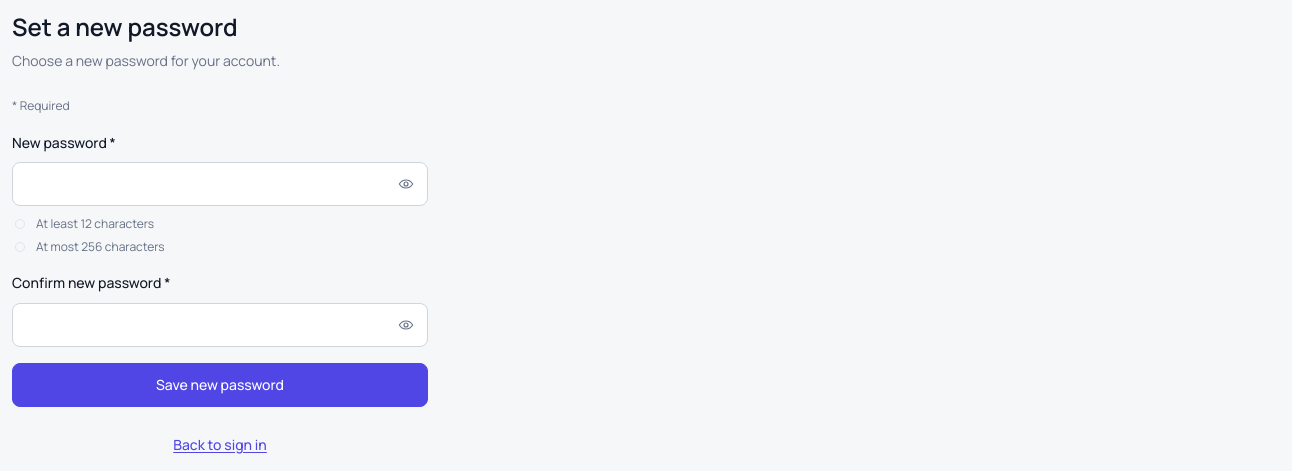
ResetPasswordForm › tells the user their other sessions are gone once the reset lands
The width and height of the screenshot is (1292, 471).
In the password field labelled "New password *": [220, 184] box [12,162,428,206], type "a-perfectly-fine-passphrase"
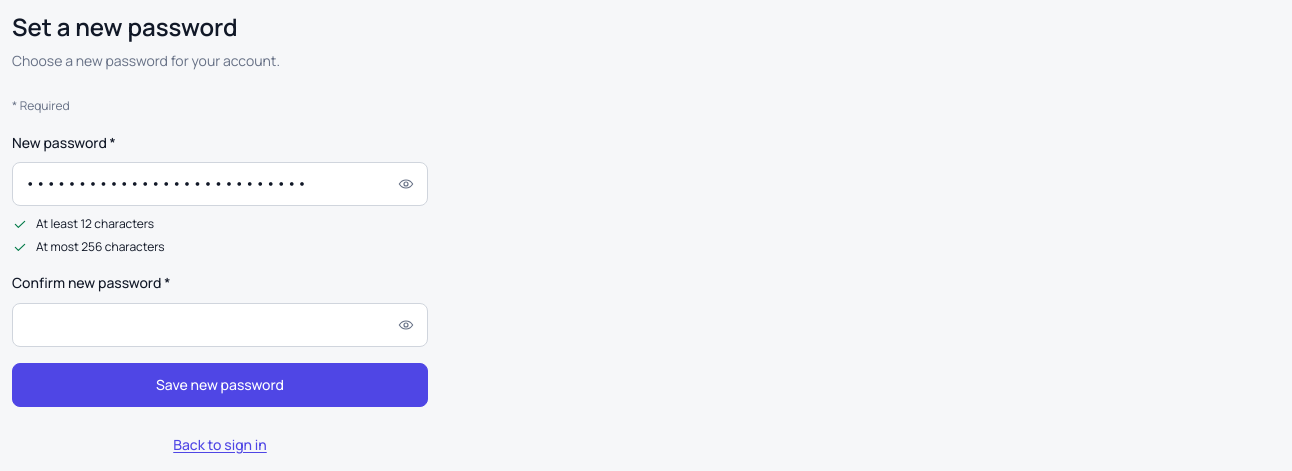
In the password field labelled "Confirm new password *": [220, 325] box [12,303,428,347], type "a-perfectly-fine-passphrase"
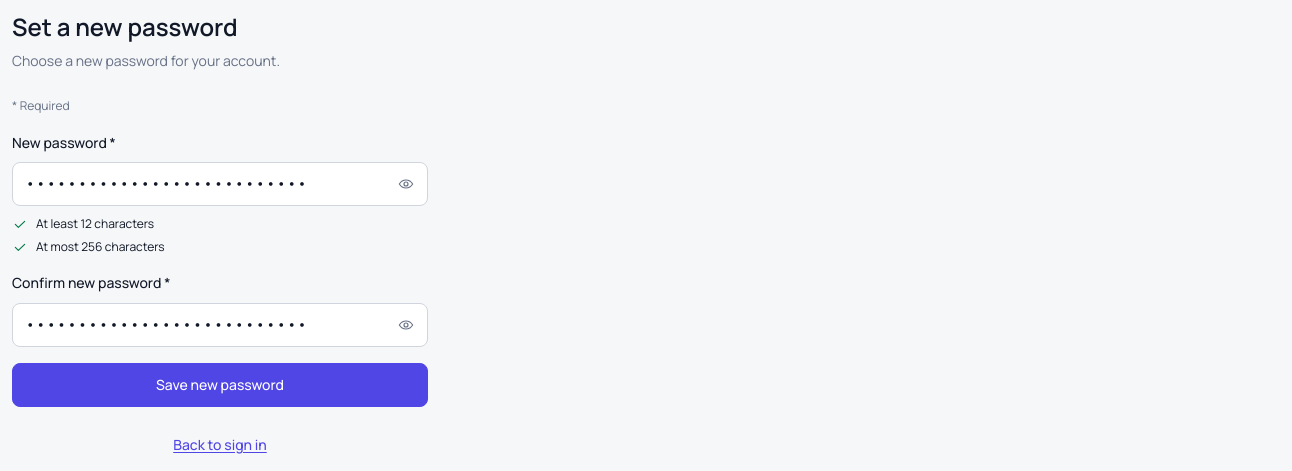
Click the button "Save new password": [220, 385] box [12,363,428,407]
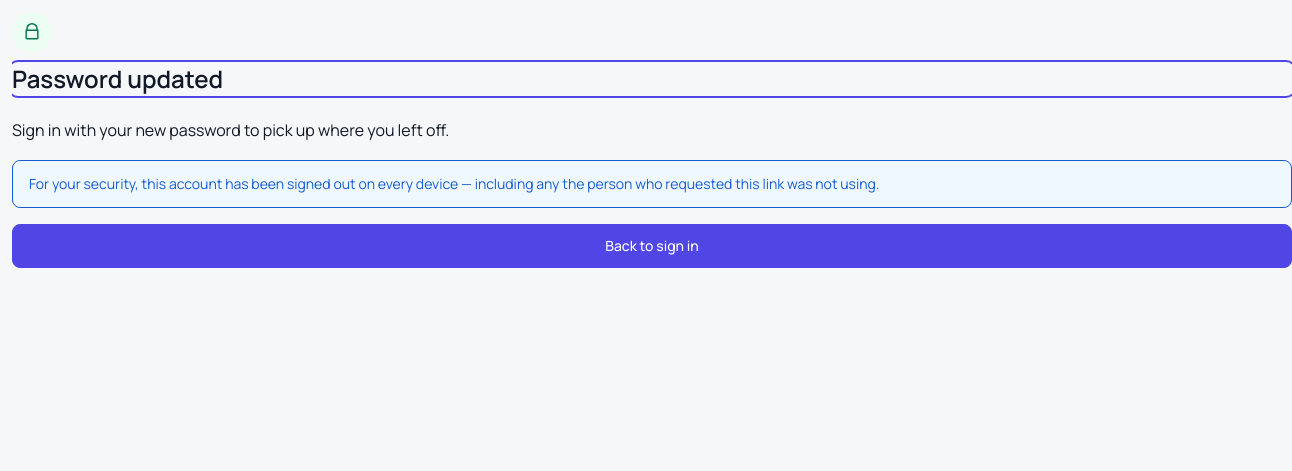
Result: the heading "Password updated" is shown at [12,62,223,95]
Result: the text "For your security, this account has been signed out on every device — including any the person who requested this link w" is shown at [29,174,879,193]
